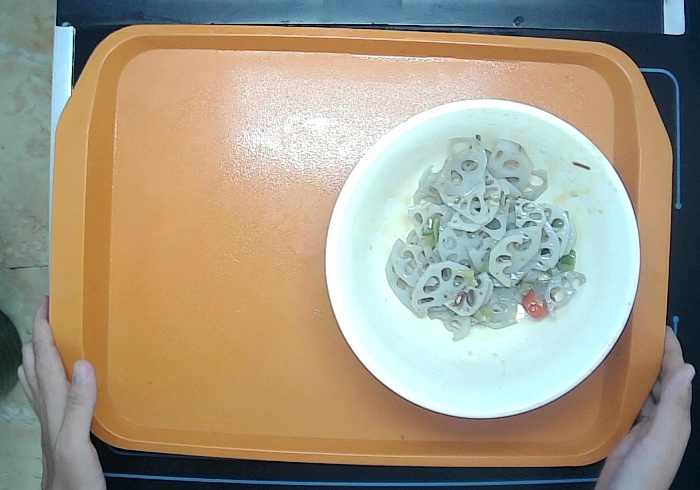ZNLD-Da_Tang_Wan: (326, 95, 645, 420)
